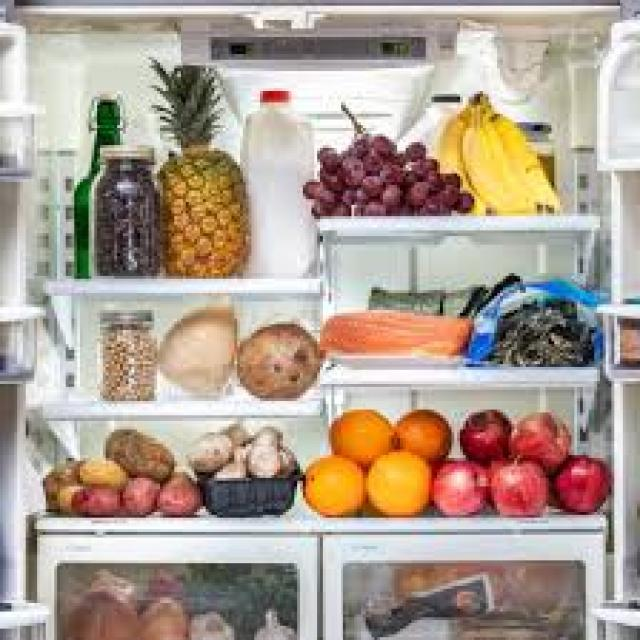apples: (442, 390, 609, 522)
bananas: (434, 74, 564, 226)
milk: (235, 76, 328, 274)
mushroom: (184, 412, 308, 526)
potatoes: (32, 448, 192, 520)
